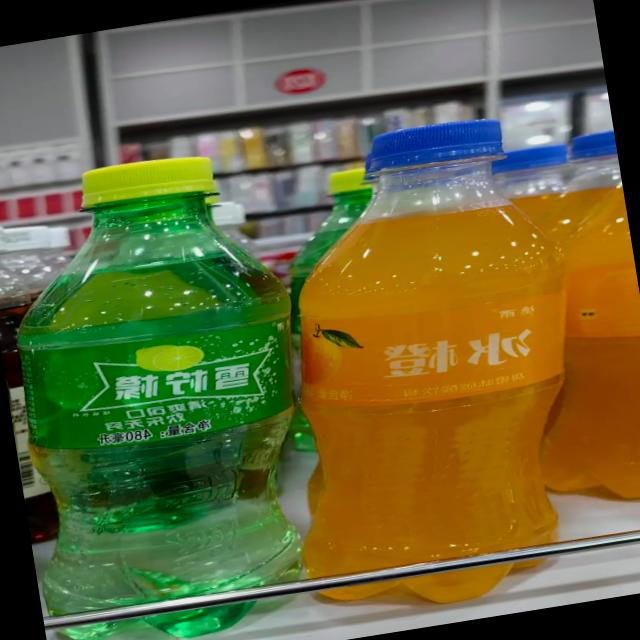bottle: (239, 104, 624, 626), (0, 138, 344, 640), (487, 124, 640, 519), (0, 219, 62, 609)
